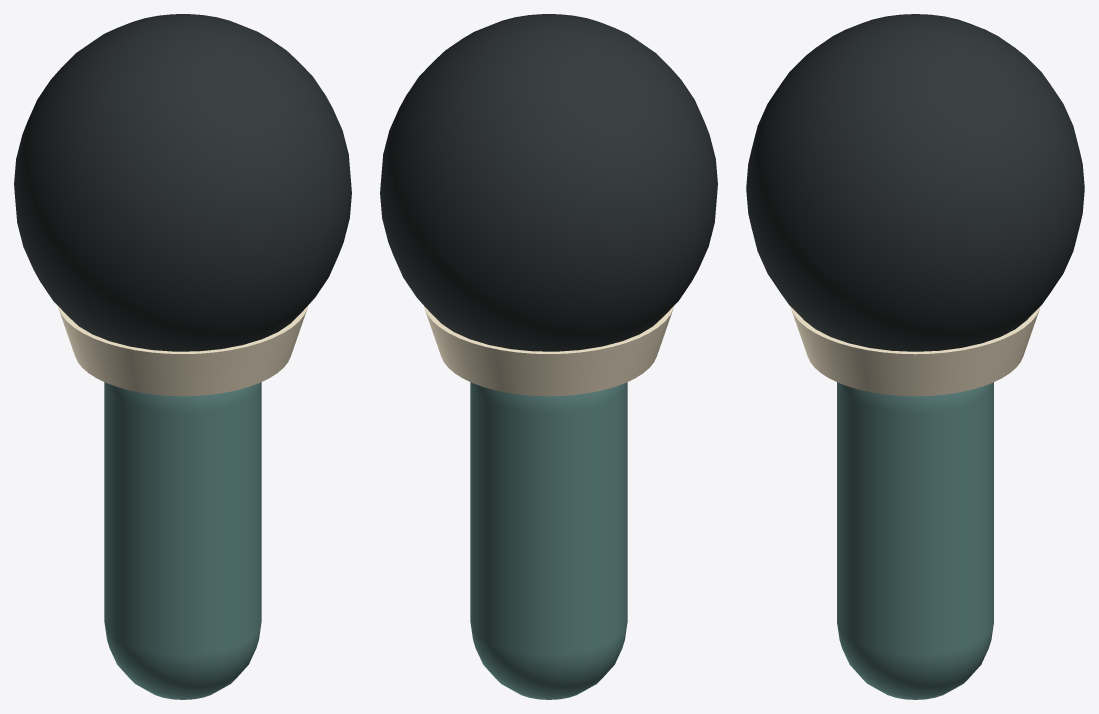
The model's file is microphone.glb.
The picture shows the model from 3 angles, left to right: view 1: azimuth 30°, elevation 25°; view 2: azimuth 150°, elevation 25°; view 3: azimuth 270°, elevation 25°; orthographic projection.
Parts seen in each view (by area): view 1: Microphone_grille, Microphone_handle, Microphone_collar; view 2: Microphone_grille, Microphone_handle, Microphone_collar; view 3: Microphone_grille, Microphone_handle, Microphone_collar.
Part boxes in pixels (x1,y1,x2,y2): Microphone_grille: [14, 14, 351, 351]; Microphone_handle: [104, 382, 261, 699]; Microphone_collar: [58, 306, 307, 396]; Microphone_grille: [380, 14, 717, 351]; Microphone_handle: [470, 382, 627, 699]; Microphone_collar: [424, 306, 673, 396]; Microphone_grille: [746, 14, 1084, 351]; Microphone_handle: [837, 382, 993, 699]; Microphone_collar: [790, 307, 1040, 396].
Size of the model in its own units: 0.28 by 0.6056 by 0.28.
